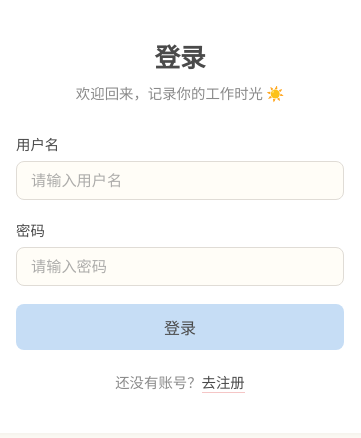
Test: LoginPage › displays error message on login failure
Type "bad" into the field labelled "用户名" at (180, 180), box [16, 161, 344, 200]
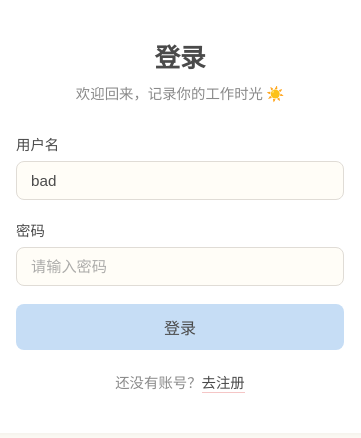
Type "wrong1" into the password field labelled "密码" at (180, 266), box [16, 247, 344, 286]
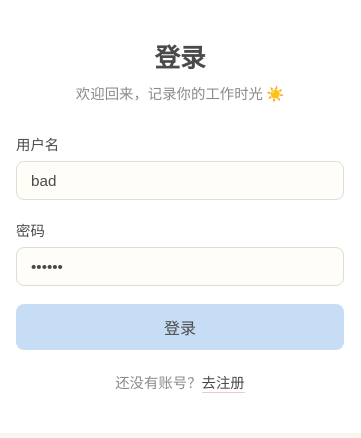
Click the button "登录" at (180, 327), box [16, 304, 344, 350]
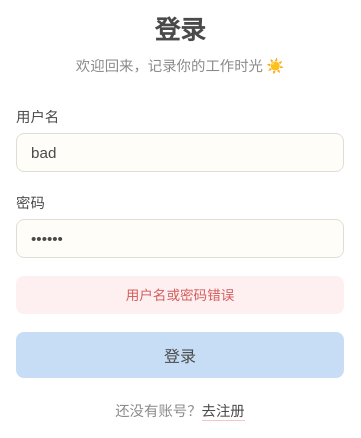
Expected: the message reads "用户名或密码错误", [126, 284, 234, 304]
